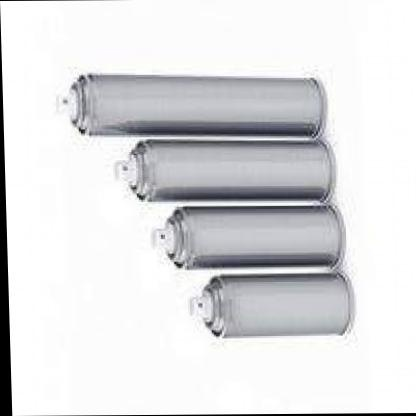trash: (70, 74, 353, 336), (71, 74, 326, 135), (117, 140, 334, 200), (153, 205, 343, 268), (191, 274, 352, 336)
